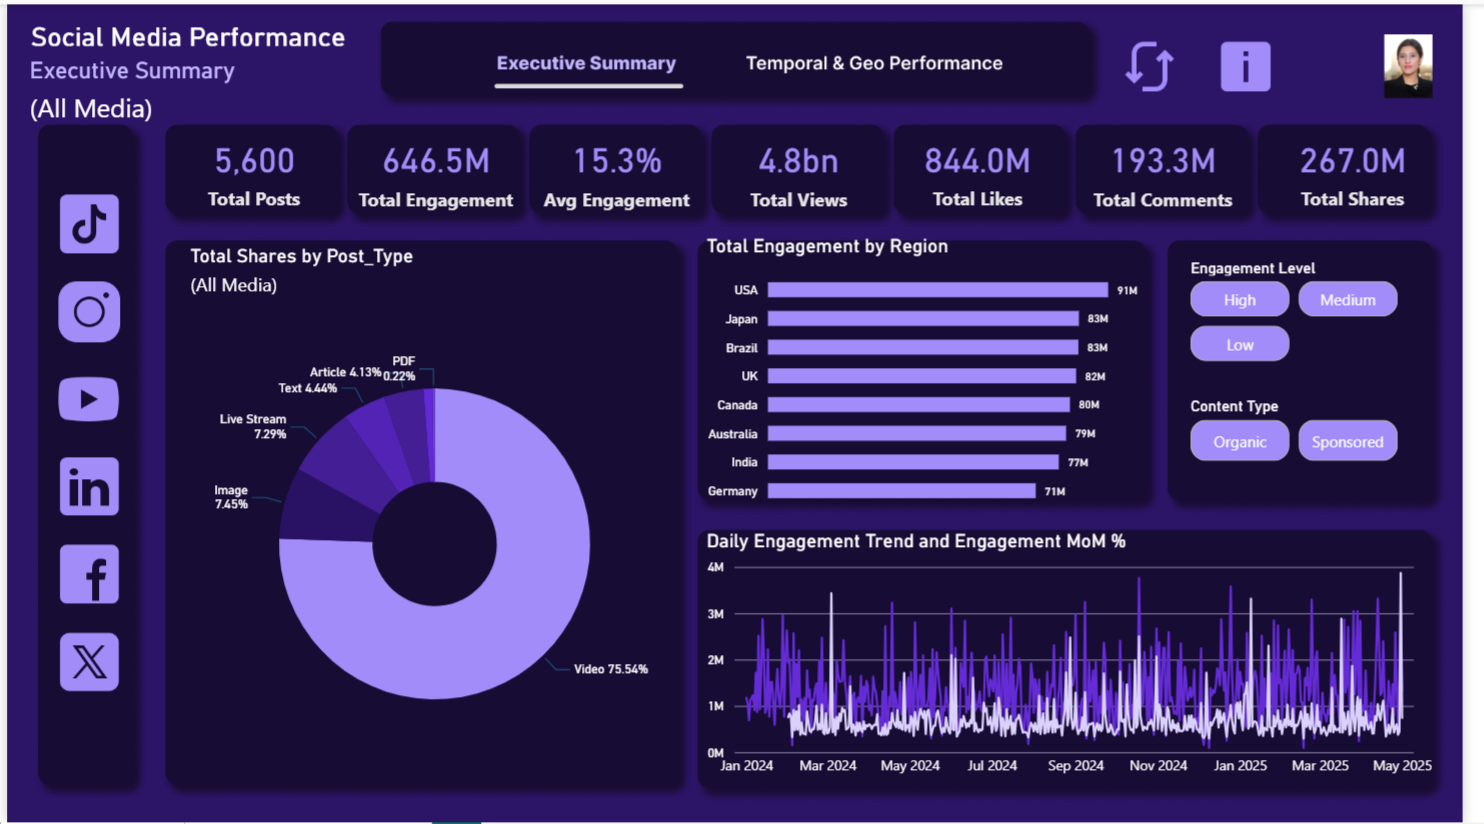

What the dashboard file says about the page in this screenshot:
{"tool":"powerbi","page":{"name":"Executive Summary","canvas":[1280,720],"ordinal":0},"visuals":[{"type":"card","fields":{"Values":["Key Measures.Total Posts"]},"box":[144,107.1,146.4,78.6],"z":0},{"type":"card","fields":{"Values":["Key Measures.Total Engagement"]},"box":[302,106.7,149.8,79.1],"z":1000},{"type":"card","fields":{"Values":["Date.Total Comments"]},"box":[943.2,106.7,146.2,79.1],"z":2000},{"type":"card","fields":{"Values":["Key Measures.Total Shares"]},"box":[1108.3,107.1,150,78.6],"z":3000},{"type":"card","fields":{"Values":["Key Measures.Total Views"]},"box":[619.6,106.7,152.2,79.1],"z":4000},{"type":"card","fields":{"Values":["Key Measures.Avg Engagement"]},"box":[460.2,106.7,151,79.1],"z":5000},{"type":"card","fields":{"Values":["Key Measures.Total Likes"]},"box":[784.5,107.1,139.3,78.6],"z":6000},{"type":"donutChart","title":"Total Shares by Post_Type","fields":{"Category":["Posts.Post_Type","Posts.Content_Category"],"Y":["Key Measures.Total Shares"]},"box":[155.8,210.6,440,480.4],"z":7000},{"type":"clusteredBarChart","fields":{"Category":["Location.Region"],"Y":["Key Measures.Total Engagement"]},"box":[610,202.5,394.3,248.1],"z":8000},{"type":"lineChart","title":"Daily Engagement Trend and Engagement MoM %","fields":{"Category":["Dates.Date"],"Y":["Key Measures.Total Engagement"],"Y2":["Key Measures.Engagement MoM % Change"]},"box":[610.7,461.9,647.6,226.2],"z":9000},{"type":"advancedSlicerVisual","title":"Engagement Level","fields":{"Values":["Posts.Engagement_Level"]},"box":[1036,224,192,96],"z":10000},{"type":"advancedSlicerVisual","title":"Content Type","fields":{"Values":["Posts.Content_Type"]},"box":[1035.5,346.4,193,61.1],"z":11000},{"type":"advancedSlicerVisual","fields":{"Values":["Icon Image.Image URL"]},"box":[40.4,161.6,63.5,448.7],"z":12000},{"type":"shape","title":"Social Media Performance","box":[20.4,14.4,299.6,22.8],"z":13000},{"type":"shape","title":"Executive Summary","box":[20.2,46.2,291.4,60.6],"z":14000},{"type":"image","box":[978.2,26,51.9,56.3],"z":15000},{"type":"image","box":[1063.3,26,51.9,56.3],"z":16000},{"type":"actionButton","box":[645.1,14.5,299,61.6],"z":17000},{"type":"image","box":[1206.1,26,51.9,56.3],"z":19000}]}

Visuals, with their boxes in screenshot pixels (x1, y1, x2, y2), scaled from the page's 1280x720 canvas onto the 1484x824 screenshot:
card - Key Measures.Total Posts: crop(167, 123, 337, 213)
card - Key Measures.Total Engagement: crop(350, 122, 524, 213)
card - Date.Total Comments: crop(1094, 122, 1263, 213)
card - Key Measures.Total Shares: crop(1285, 123, 1459, 213)
card - Key Measures.Total Views: crop(718, 122, 895, 213)
card - Key Measures.Avg Engagement: crop(534, 122, 709, 213)
card - Key Measures.Total Likes: crop(910, 123, 1071, 213)
"Total Shares by Post_Type" donutChart: crop(181, 241, 691, 791)
clusteredBarChart - Location.Region x Key Measures.Total Engagement: crop(707, 232, 1164, 516)
"Daily Engagement Trend and Engagement MoM %" lineChart: crop(708, 529, 1459, 787)
"Engagement Level" advancedSlicerVisual: crop(1201, 256, 1424, 366)
"Content Type" advancedSlicerVisual: crop(1201, 396, 1424, 466)
advancedSlicerVisual - Icon Image.Image URL: crop(47, 185, 120, 698)
"Social Media Performance" shape: crop(24, 16, 371, 43)
"Executive Summary" shape: crop(23, 53, 361, 122)
image: crop(1134, 30, 1194, 94)
image: crop(1233, 30, 1293, 94)
actionButton: crop(748, 17, 1095, 87)
image: crop(1398, 30, 1458, 94)
